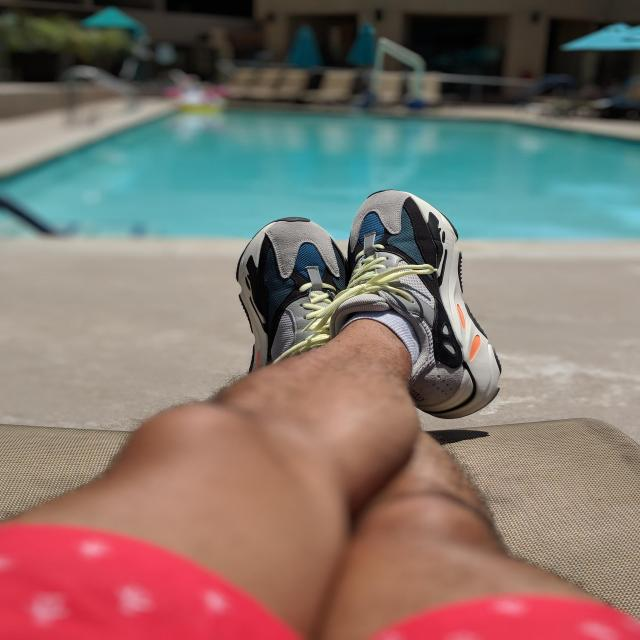shoe: (98, 175, 324, 382), (286, 186, 499, 400)
